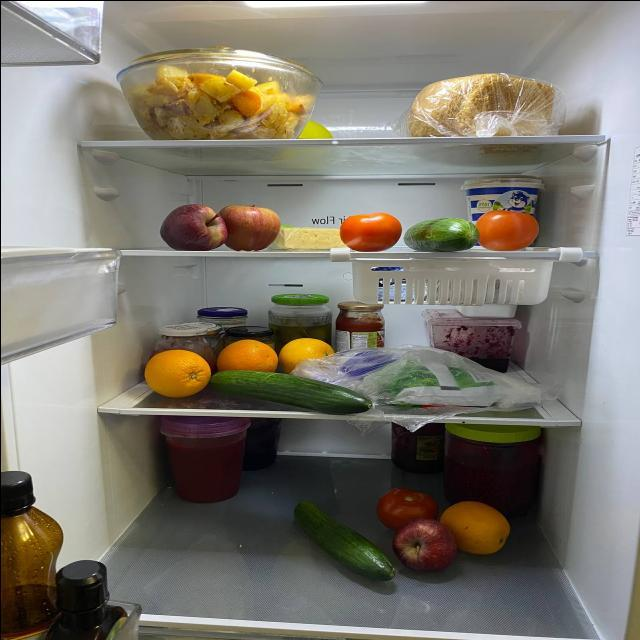Apple: (154, 206, 227, 249), (393, 519, 459, 566), (224, 204, 280, 249)
Cucumber: (292, 504, 400, 578), (199, 369, 365, 410), (400, 219, 482, 248)
Orange: (442, 499, 509, 551), (140, 349, 208, 395), (217, 339, 274, 375), (282, 333, 332, 370)
Tomato: (373, 486, 439, 523), (339, 211, 402, 249), (478, 210, 538, 248)
